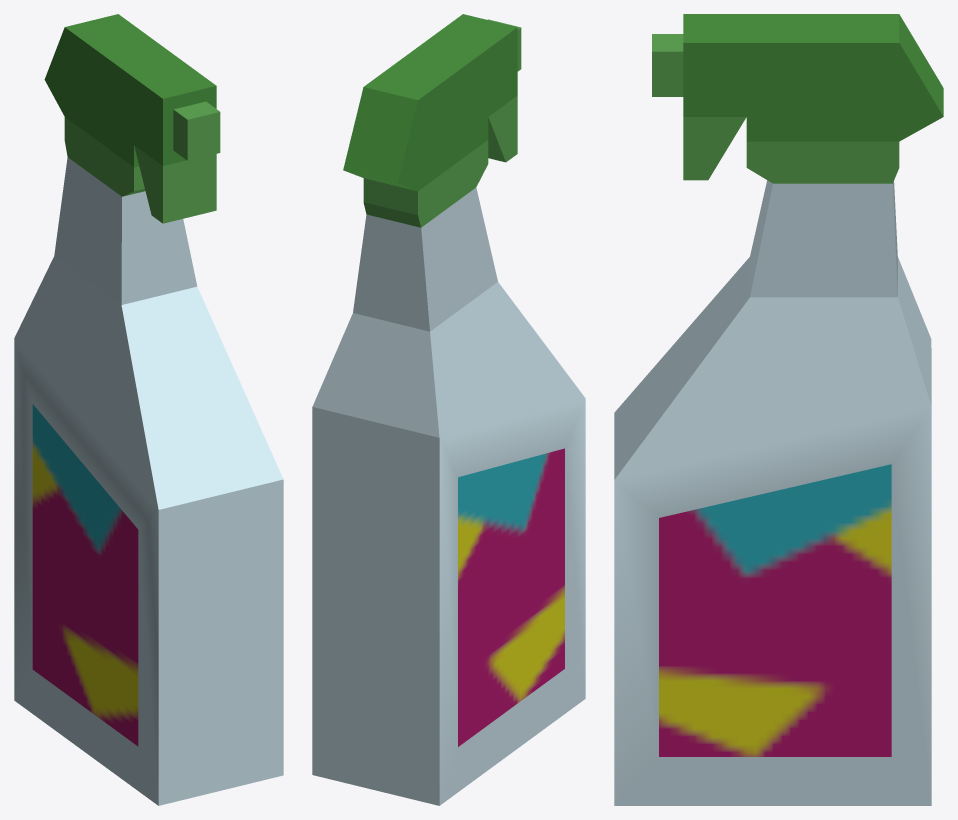
Rendered from SM_Prop_Spray_Bottle_Low_01.fbx.
The picture shows the model from 3 angles, left to right: view 1: azimuth 30°, elevation 25°; view 2: azimuth 150°, elevation 25°; view 3: azimuth 270°, elevation 25°; orthographic projection. The views are drawn at different scales.
Parts seen in each view (by area): view 1: SM_Prop_Spray_Bottle_Low_01; view 2: SM_Prop_Spray_Bottle_Low_01; view 3: SM_Prop_Spray_Bottle_Low_01.
Boxes of the visible parts, x1=… form: SM_Prop_Spray_Bottle_Low_01: x1=14, y1=14, x2=283, y2=805; SM_Prop_Spray_Bottle_Low_01: x1=312, y1=14, x2=585, y2=805; SM_Prop_Spray_Bottle_Low_01: x1=614, y1=14, x2=943, y2=805.
Bounding box in the file's own units: 5.23 × 26.93 × 10.81.
